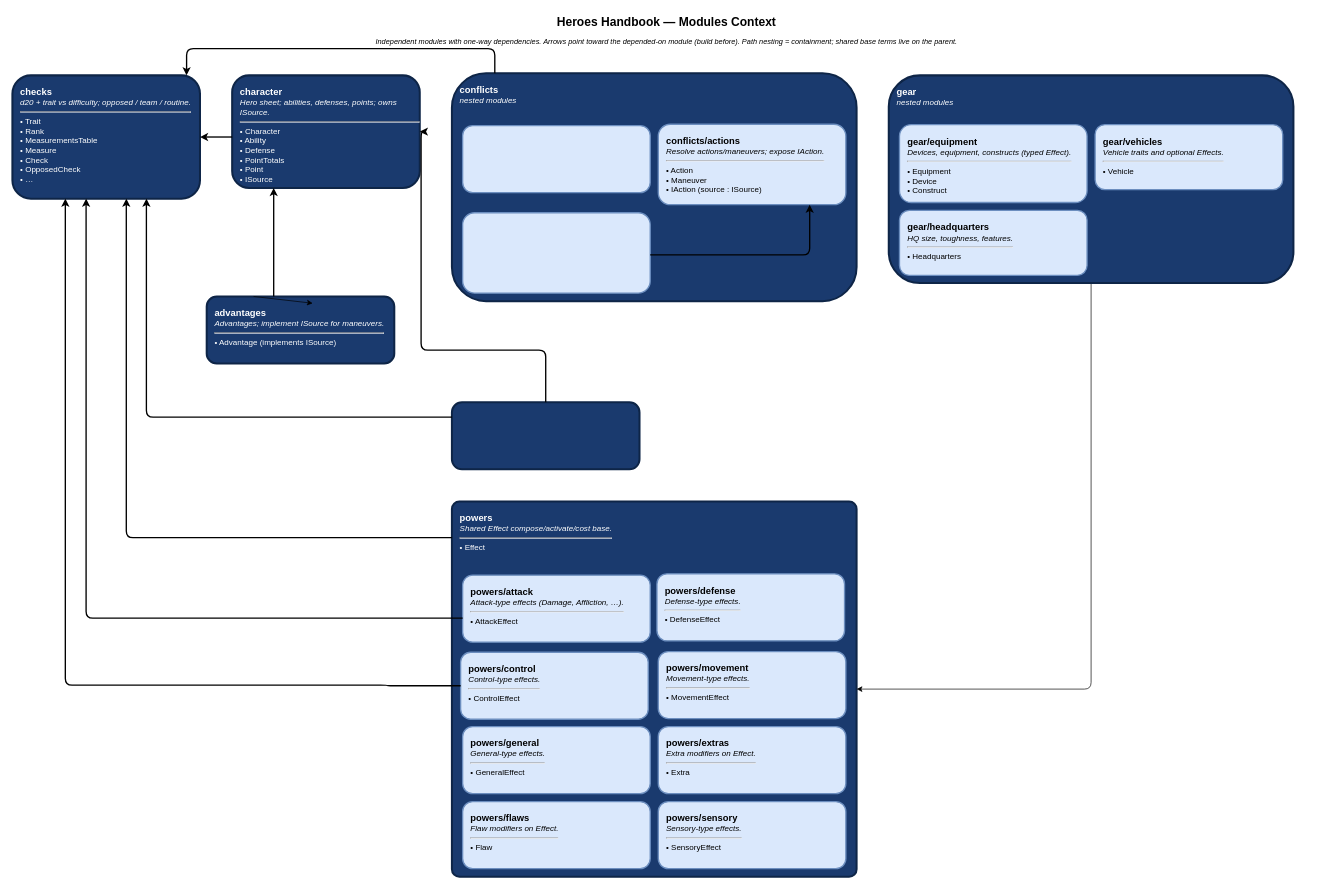
The diagram is 1332 pixels wide and 889 high, and some of its shapes have lost their labels. Here are the shapes that lost their labels. From the top down, the centre of each, then its label:
At point (556, 159): "conflicts/conditions Condition state, damage track, recovery. • Condition".
At point (556, 252): "conflicts/turns Initiative, turns, action economy. • Initiative • Turn • Round".
At point (545, 435): "skills Skill ranks and skill checks (typed Ability). • Skill".
